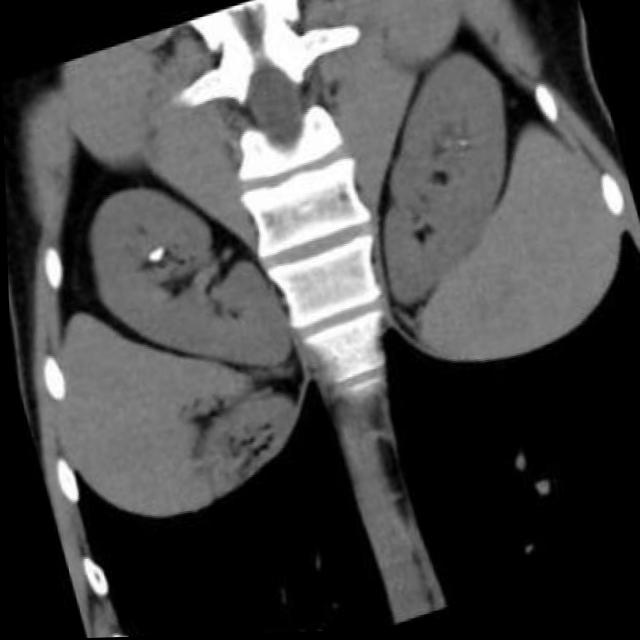Tas_Var: (451, 134, 476, 158), (143, 246, 165, 266)
